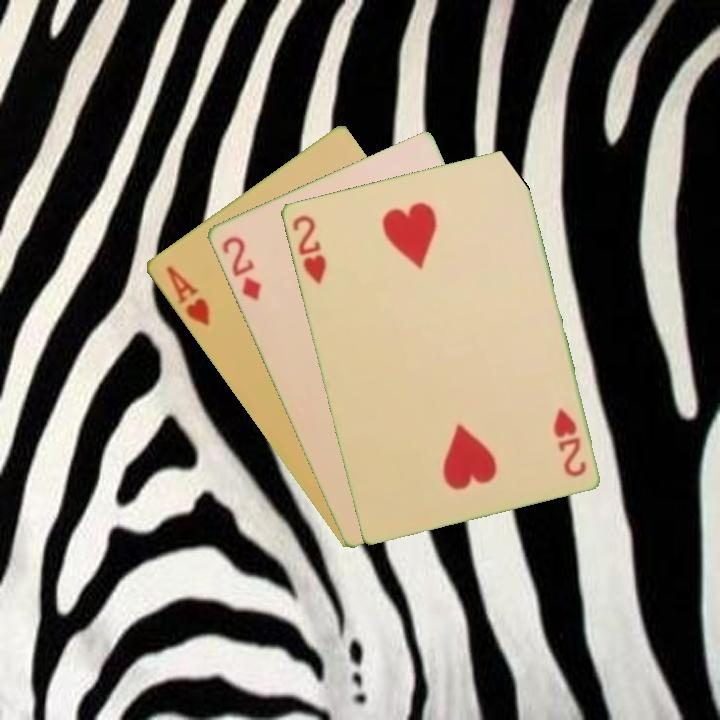2d: (218, 232, 264, 304)
2h: (288, 211, 329, 287), (549, 405, 589, 480)
Ah: (161, 262, 212, 329)
